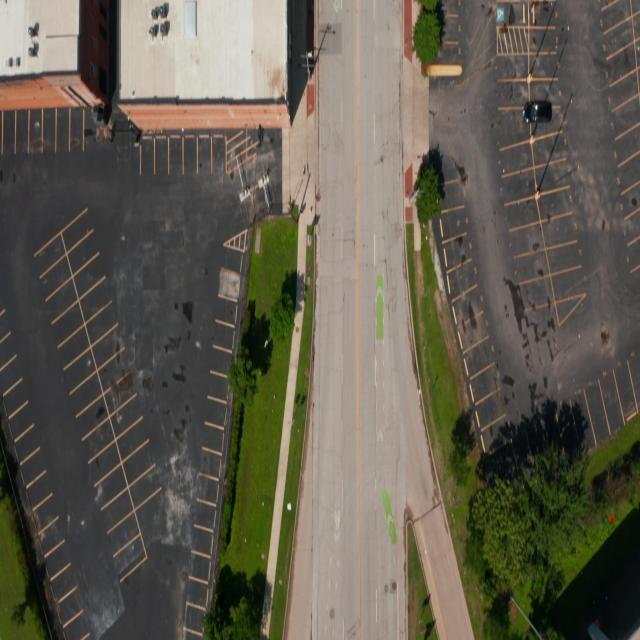Car: (520, 99, 552, 125)
